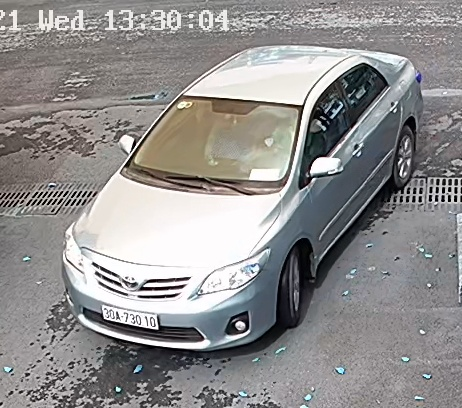vehicle plate: (96, 300, 162, 329)
